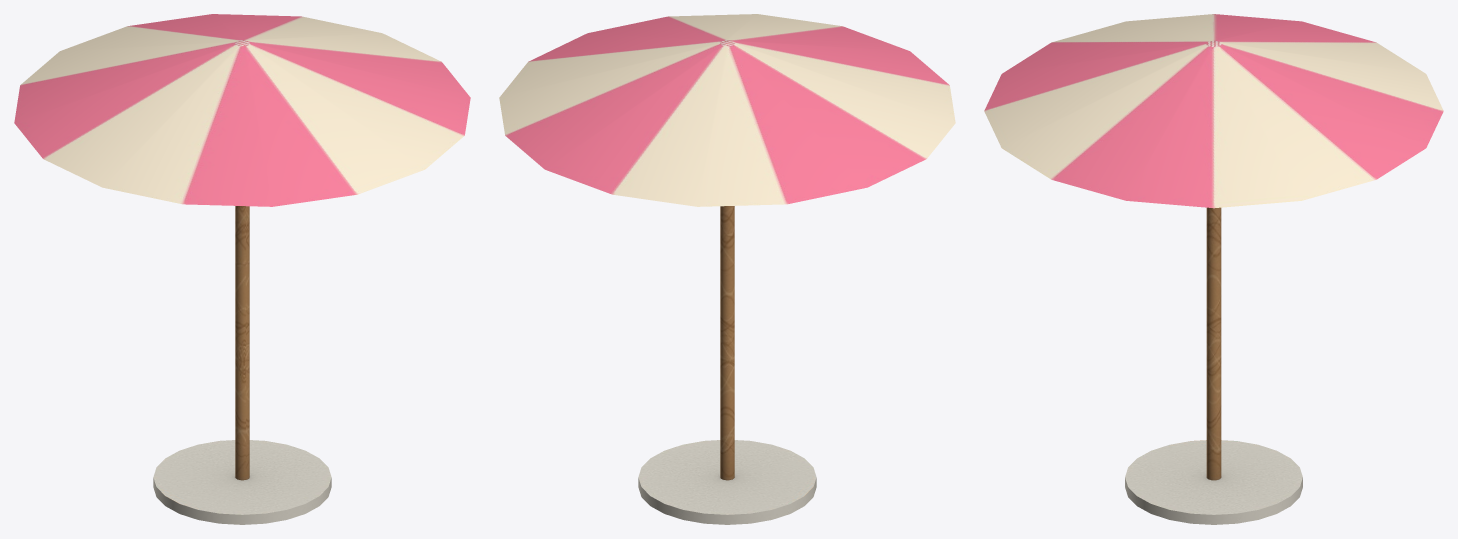
File: parasol.glb
3 renders of one model, left to right at view 1: azimuth 30°, elevation 25°; view 2: azimuth 150°, elevation 25°; view 3: azimuth 270°, elevation 25°, orthographic.
Parts seen in each view (by area): view 1: parasol; view 2: parasol; view 3: parasol.
Part boxes in pixels (box(x1,y1,x2,y2)): parasol: box(14, 14, 470, 524); parasol: box(499, 14, 955, 524); parasol: box(984, 14, 1443, 524).
Bounding box in the file's own units: 1.24 × 1.32 × 1.24.
1 material, 1 textured.
